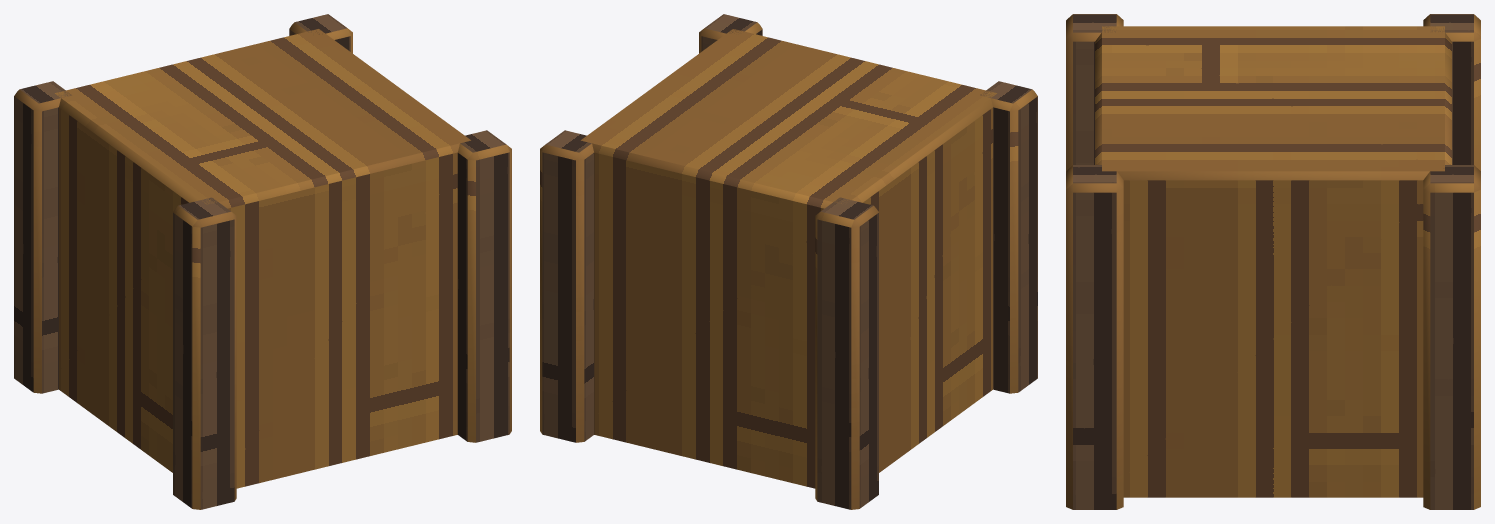
Rendered from crate_1.glb.
3 views of the same model, side by side, from view 1: azimuth 30°, elevation 25°; view 2: azimuth 150°, elevation 25°; view 3: azimuth 270°, elevation 25° (orthographic). The views are drawn at different scales.
Parts seen in each view (by area): view 1: crate_2; view 2: crate_2; view 3: crate_2.
Part boxes in pixels (bbox=[...]): crate_2: bbox=[14, 14, 511, 509]; crate_2: bbox=[540, 14, 1037, 509]; crate_2: bbox=[1066, 14, 1480, 509].
Size of the model in its own units: 0.72 by 0.62 by 0.72.
2 materials, 2 textured.
